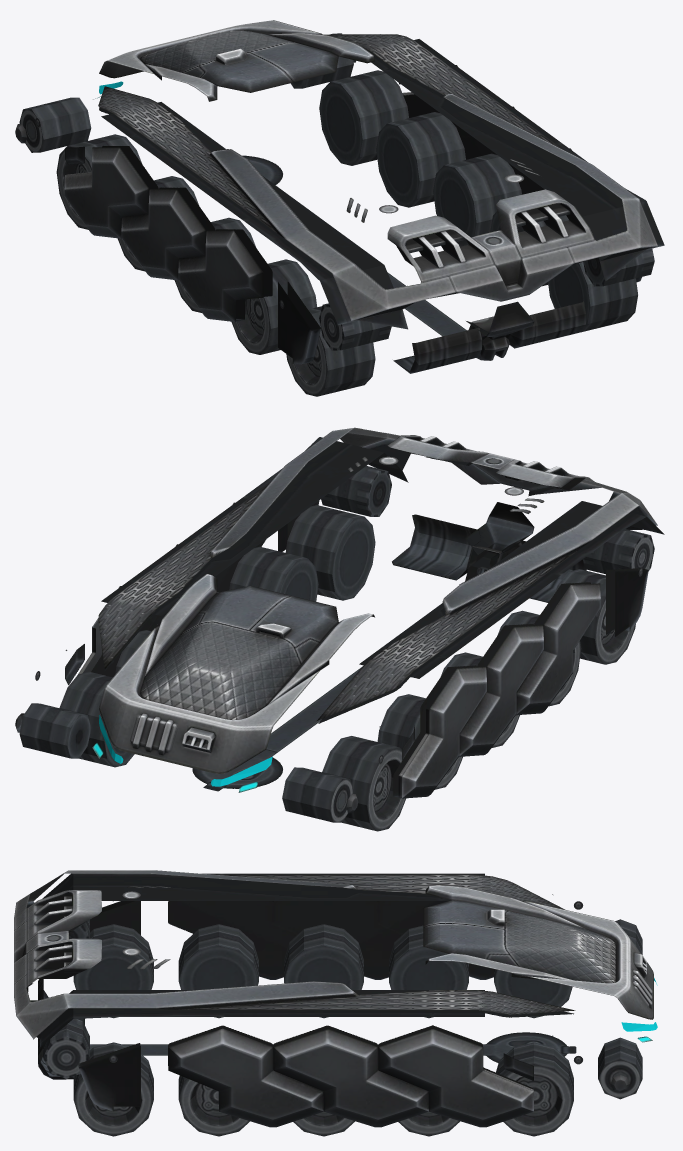
The model's file is Hornet.fbx.
3 views of the same model, one above another, from view 1: azimuth 30°, elevation 25°; view 2: azimuth 150°, elevation 25°; view 3: azimuth 270°, elevation 25° (orthographic). The views are drawn at different scales.
Parts seen in each view (by area): view 1: Hornet; view 2: Hornet; view 3: Hornet.
Boxes of the visible parts, bbox=[...] form: Hornet: bbox=[15, 20, 664, 396]; Hornet: bbox=[15, 427, 664, 831]; Hornet: bbox=[14, 870, 657, 1136].
Size of the model in its own units: 305 by 126 by 522.
Materials: 1 (1 with a texture image).
